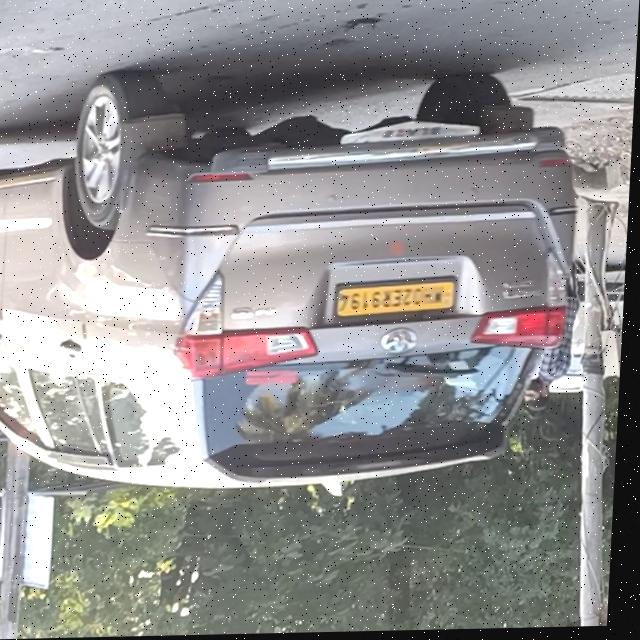plate: (339, 280, 460, 319)
